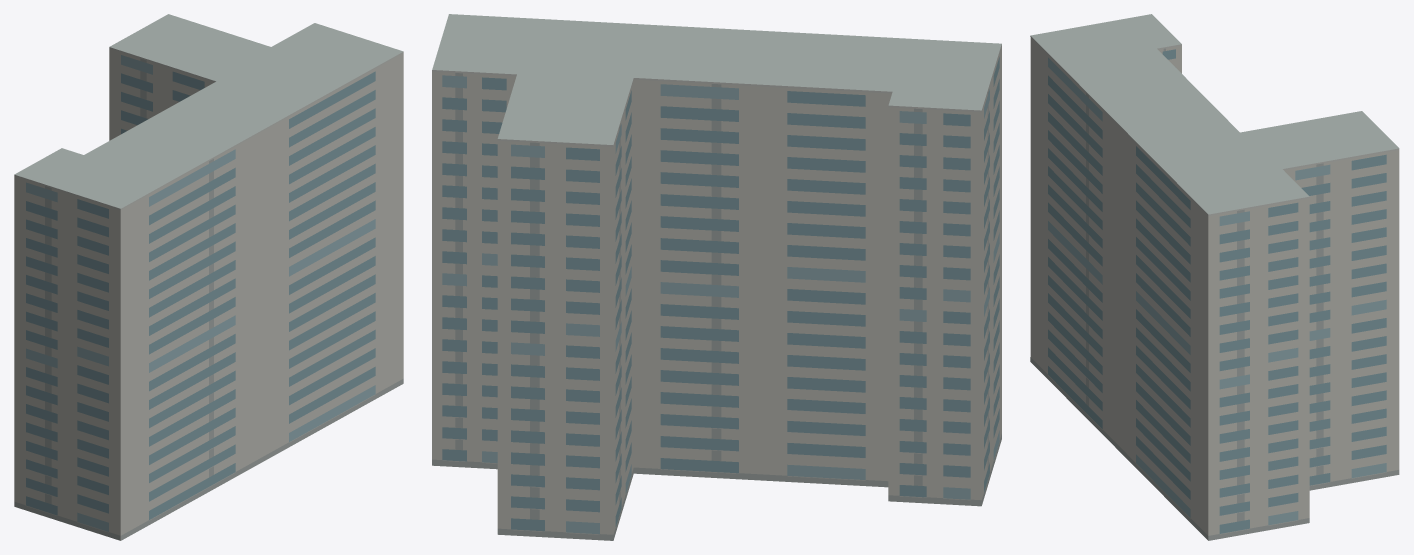
Rendered from residential-7543df67-4a0d-43fa-921f-e153b3a62ebb.glb.
The picture shows the model from 3 angles, left to right: view 1: azimuth 30°, elevation 25°; view 2: azimuth 150°, elevation 25°; view 3: azimuth 270°, elevation 25°; orthographic projection. The views are drawn at different scales.
Visible parts, largest first — view 1: residential-7543df67-4a0d-43fa-921f-e153b3a62ebb.tmp; view 2: residential-7543df67-4a0d-43fa-921f-e153b3a62ebb.tmp; view 3: residential-7543df67-4a0d-43fa-921f-e153b3a62ebb.tmp.
Boxes of the visible parts, bbox=[...] form: residential-7543df67-4a0d-43fa-921f-e153b3a62ebb.tmp: bbox=[14, 14, 403, 540]; residential-7543df67-4a0d-43fa-921f-e153b3a62ebb.tmp: bbox=[432, 14, 1001, 540]; residential-7543df67-4a0d-43fa-921f-e153b3a62ebb.tmp: bbox=[1030, 14, 1399, 540].
Bounding box in the file's own units: 71.18 × 54 × 55.34.
